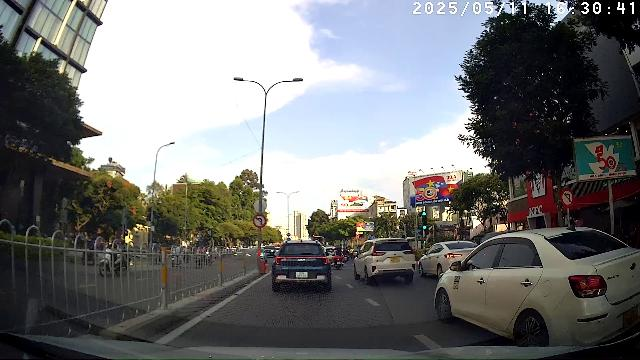123a-cam-re-trai: (560, 188, 574, 208), (253, 214, 267, 228)
